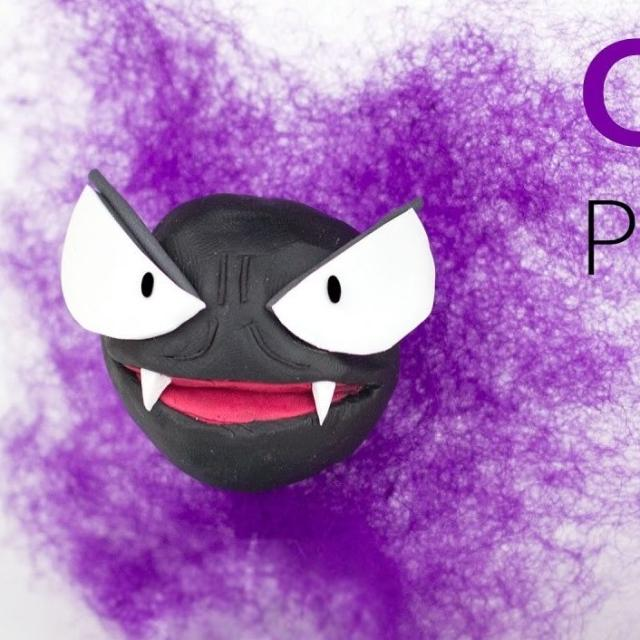Gastly: (49, 104, 496, 553)
